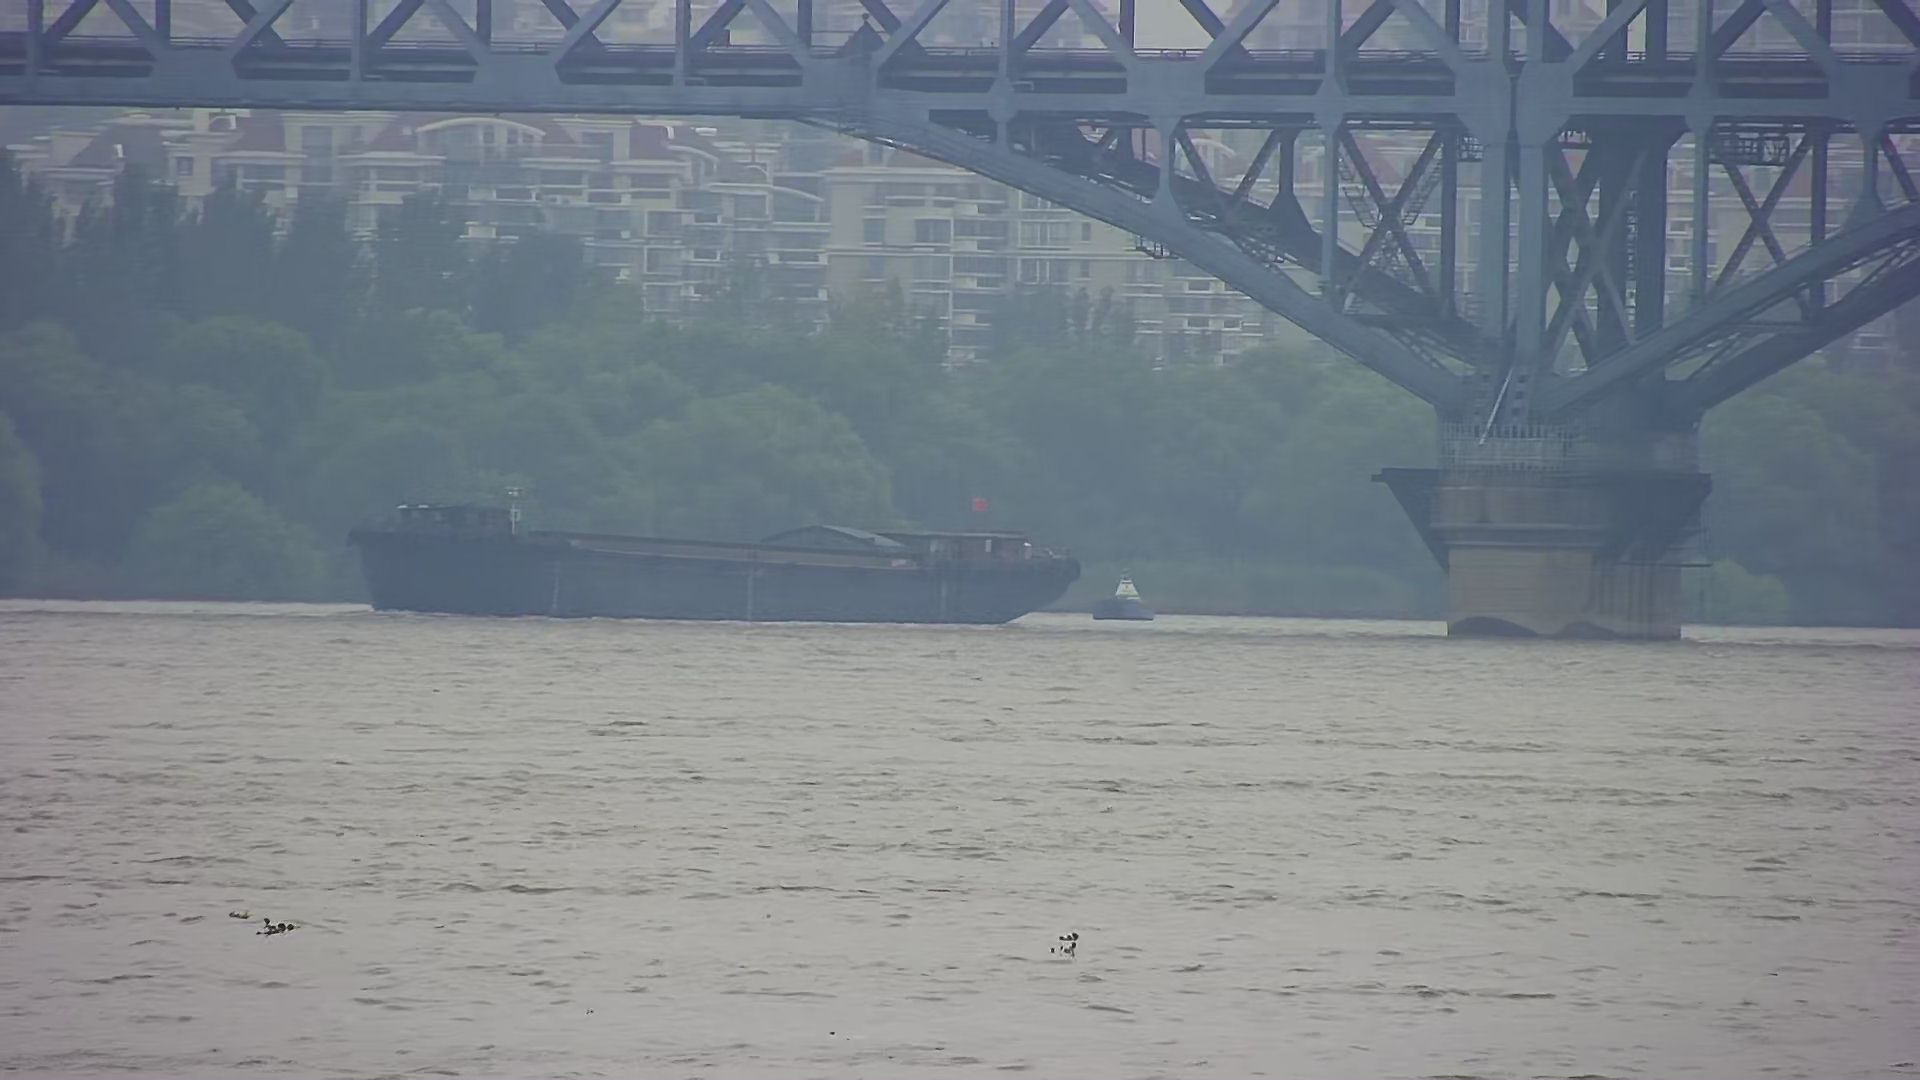boat: (1091, 564, 1182, 632)
bridge: (1, 1, 1908, 641)
ship: (327, 469, 1087, 636)
